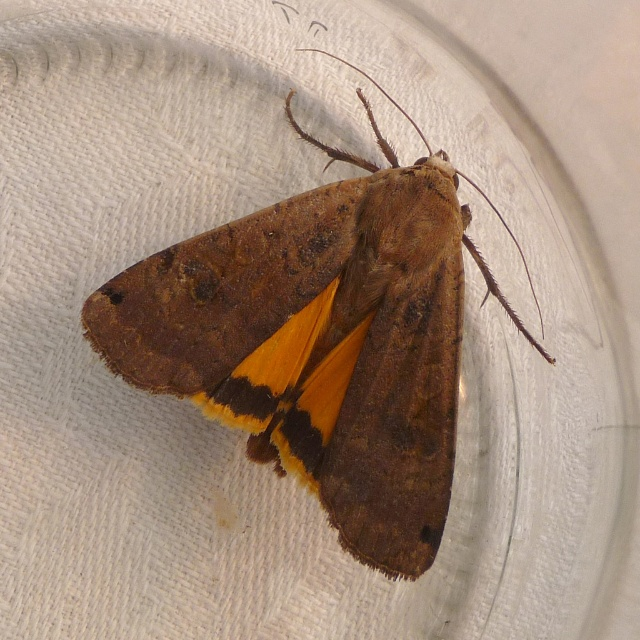Moths and butterflies: (80, 47, 559, 582)
